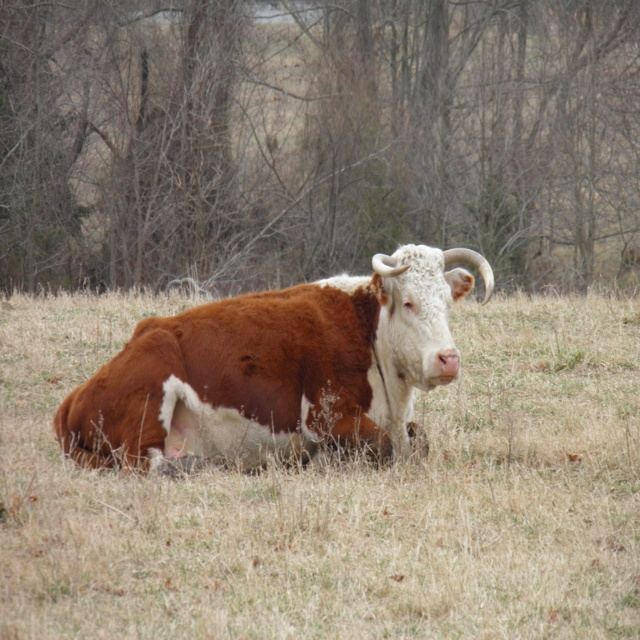Cattle: (54, 243, 495, 474)
